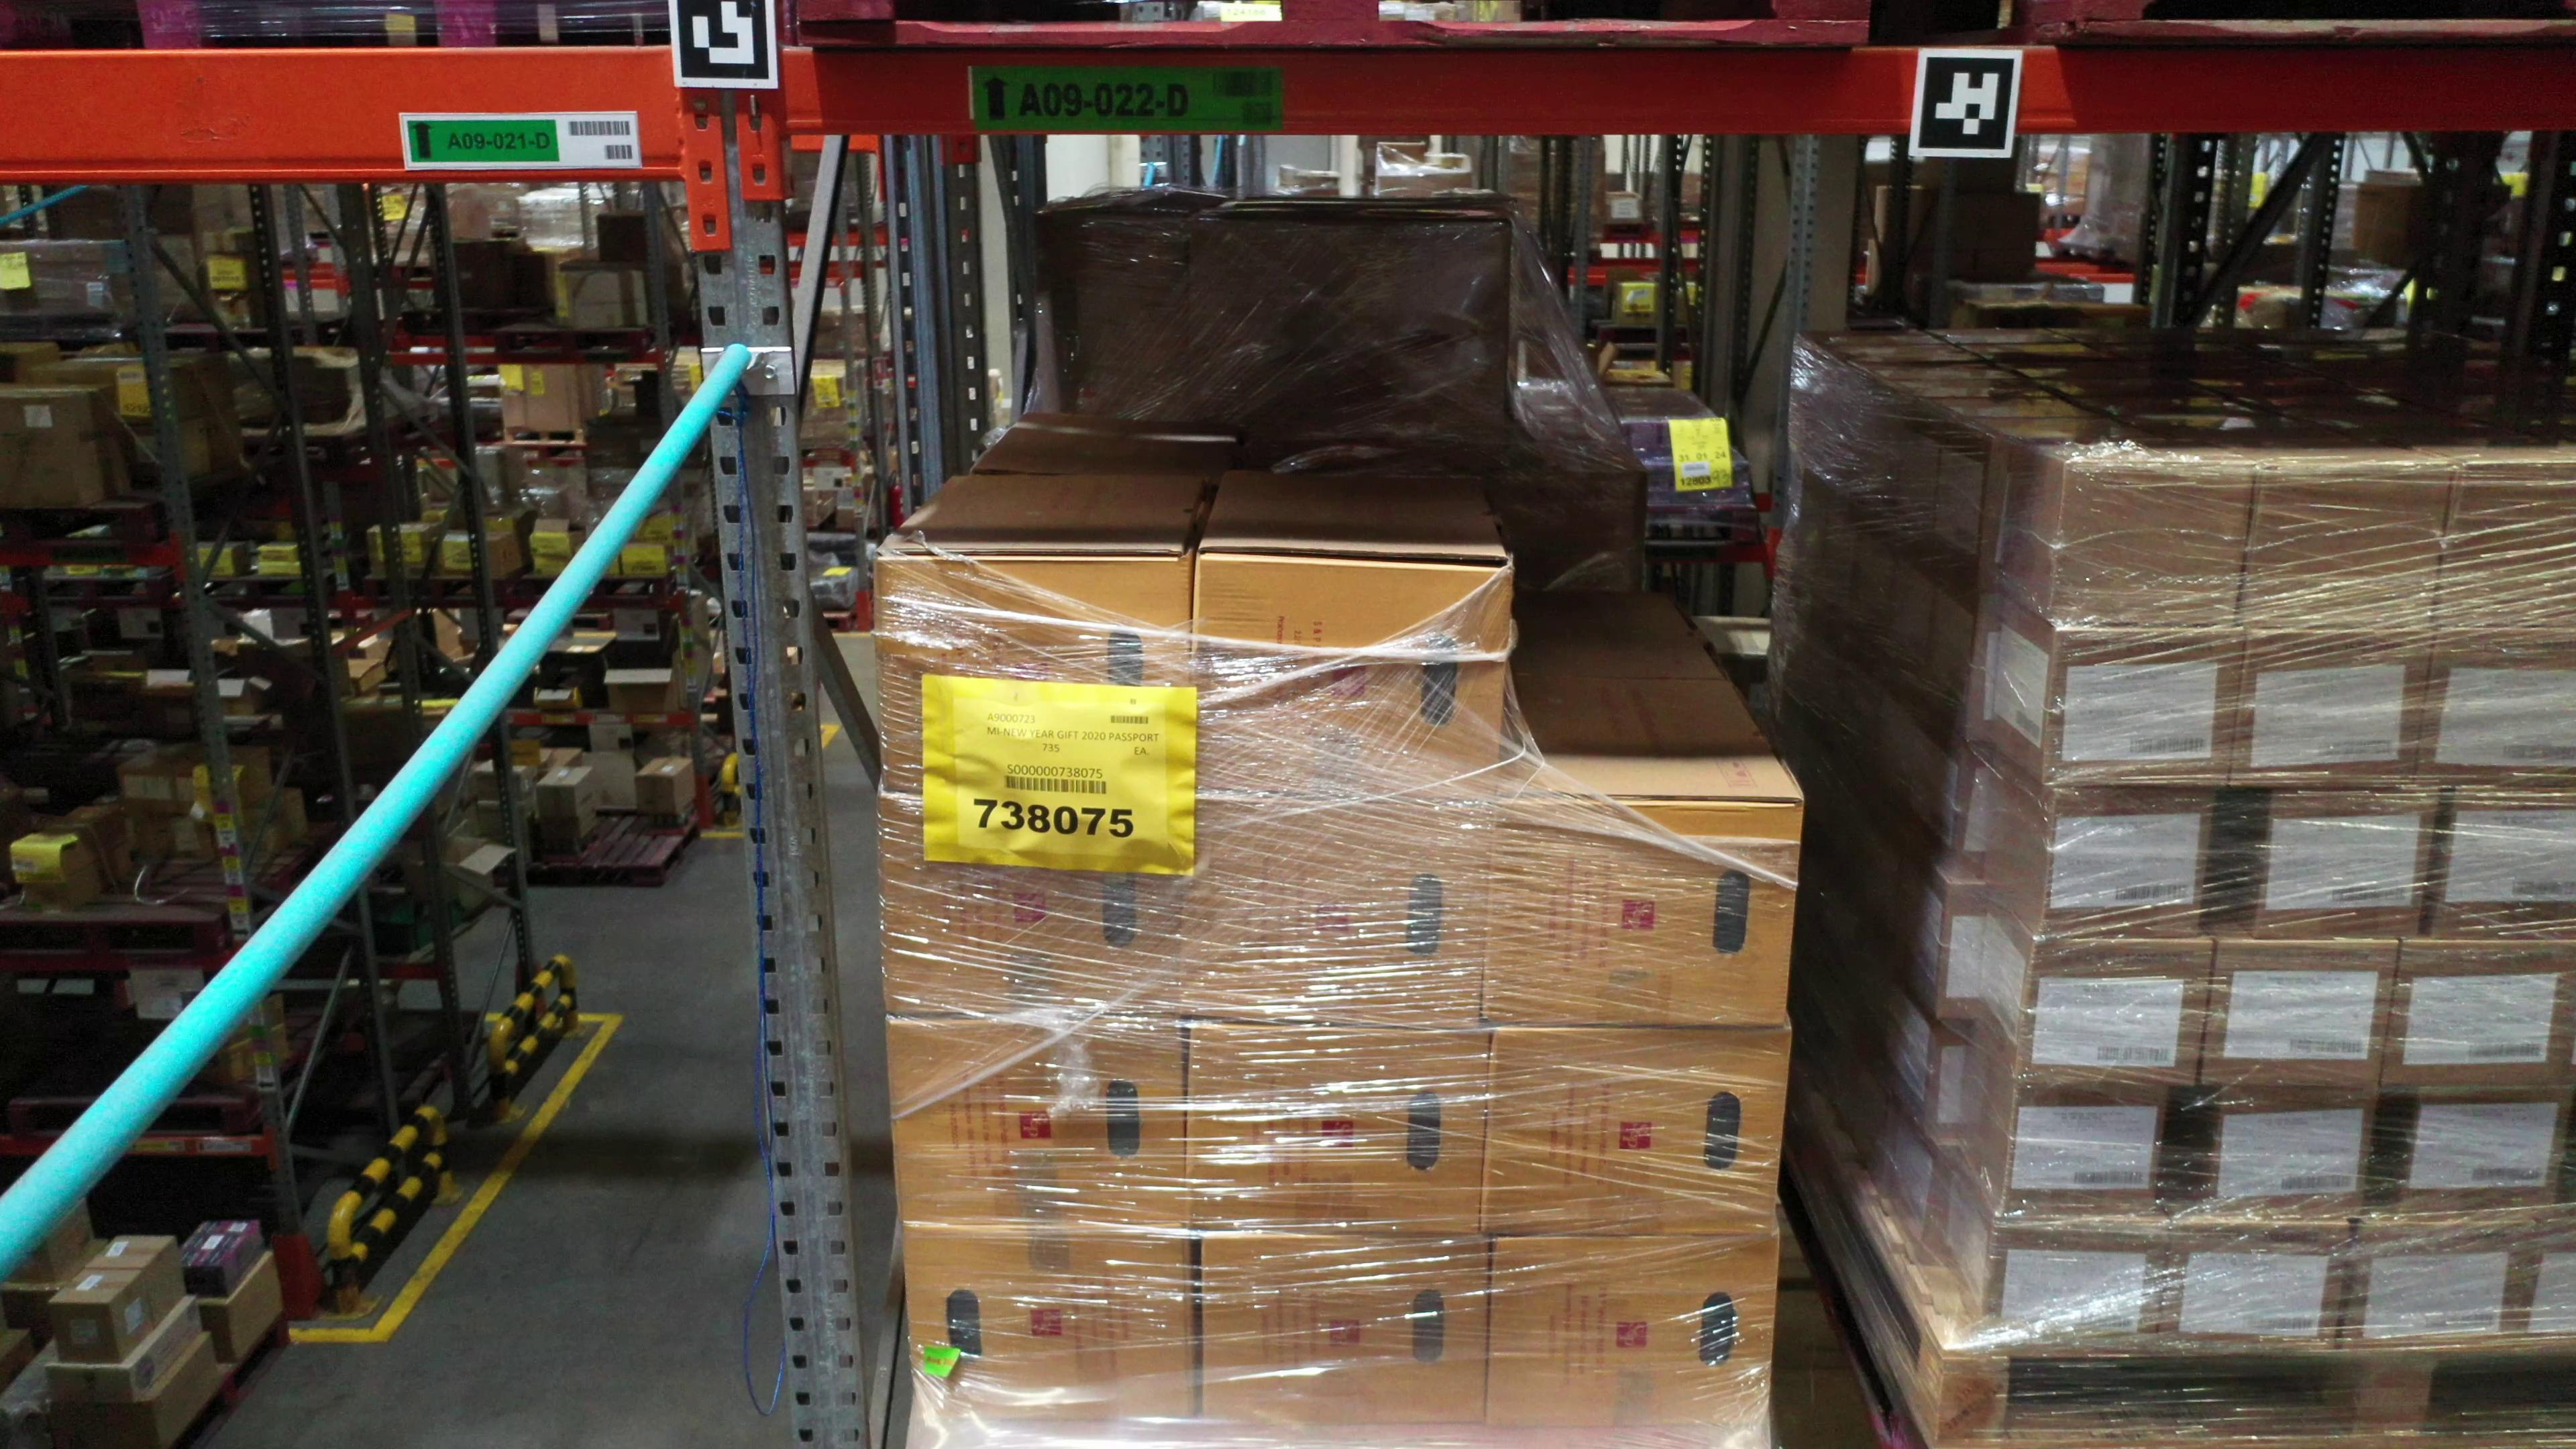-: (1185, 552, 1514, 800), (876, 552, 1192, 794), (1477, 798, 1805, 1031), (1185, 789, 1493, 1033), (1184, 1017, 1491, 1240), (885, 794, 1189, 1016), (1481, 1028, 1796, 1240), (890, 1014, 1185, 1230), (901, 1223, 1196, 1424), (1194, 1231, 1486, 1426), (1486, 1238, 1778, 1422), (2238, 462, 2452, 633), (2051, 460, 2254, 633), (2227, 628, 2434, 793), (2043, 628, 2245, 787), (2012, 936, 2212, 1090), (2378, 941, 2576, 1090), (2199, 938, 2396, 1086), (2250, 789, 2438, 941), (2040, 786, 2215, 941), (2411, 626, 2576, 791), (1976, 1215, 2171, 1350), (2157, 1219, 2353, 1350), (2433, 462, 2576, 633), (2339, 1221, 2537, 1343), (2199, 1083, 2376, 1219), (2396, 1086, 2576, 1215), (2001, 1081, 2169, 1219), (2431, 787, 2576, 939), (2519, 1221, 2576, 1341)
